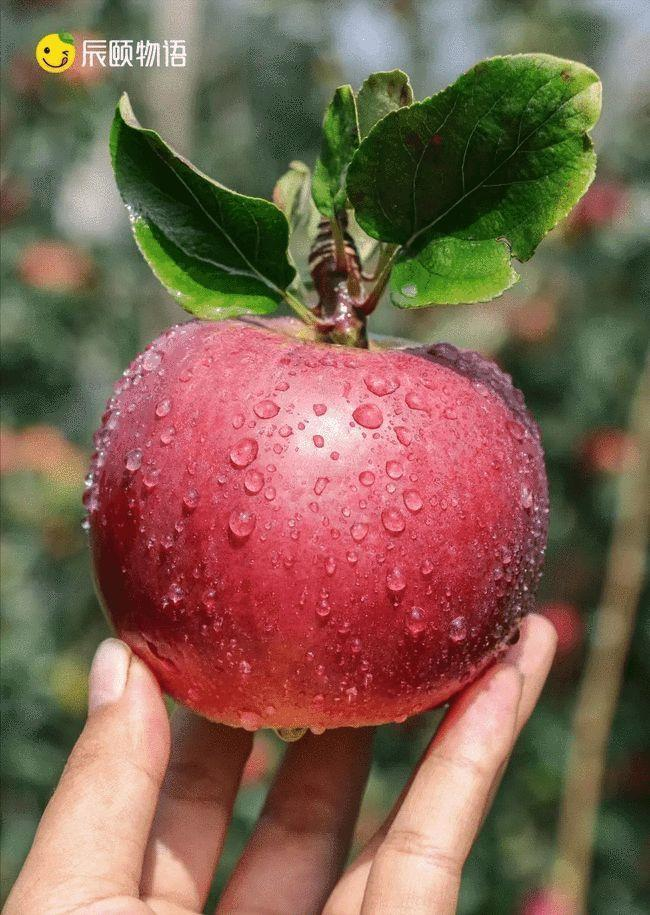apple: (76, 320, 560, 732)
